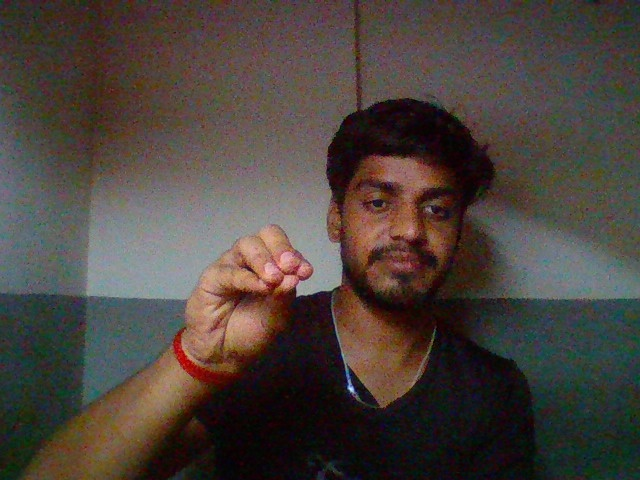Z: (171, 197, 328, 371)
